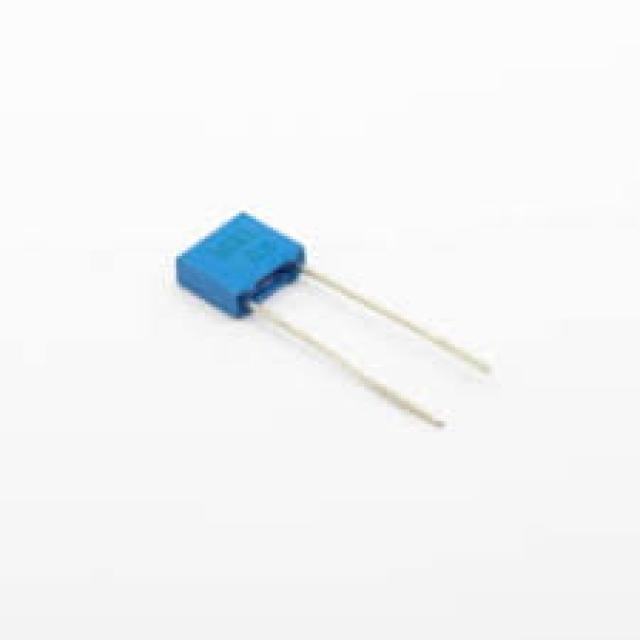Capacitor: (174, 210, 449, 430), (310, 276, 495, 378)
